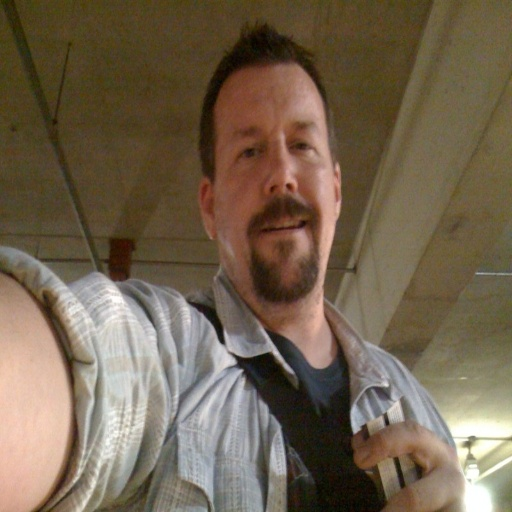hand: (347, 415, 468, 510)
